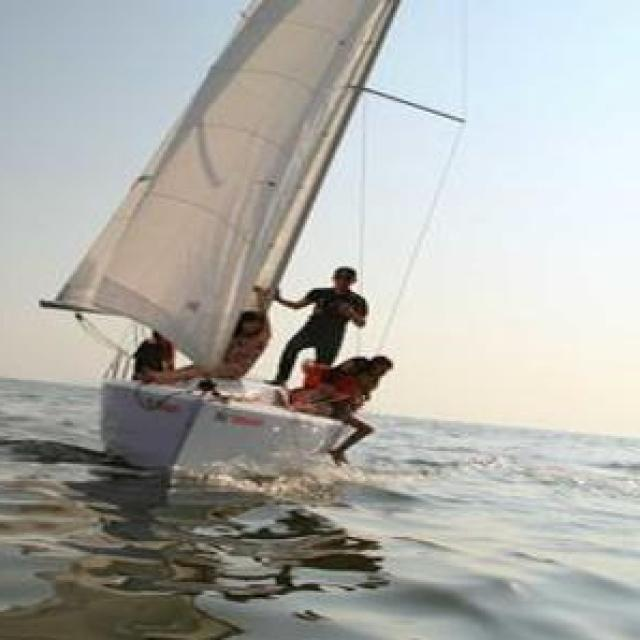sailboat: (44, 0, 462, 478)
